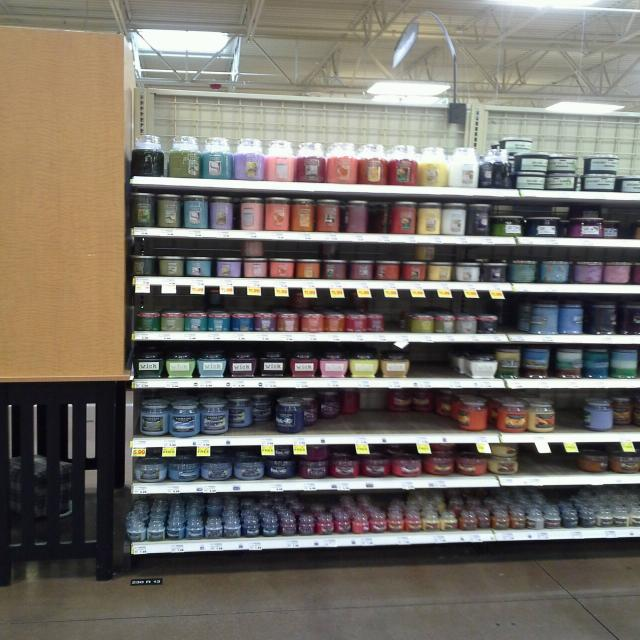empty: (510, 443, 582, 476), (380, 292, 417, 343), (557, 388, 594, 438), (496, 297, 527, 343)
